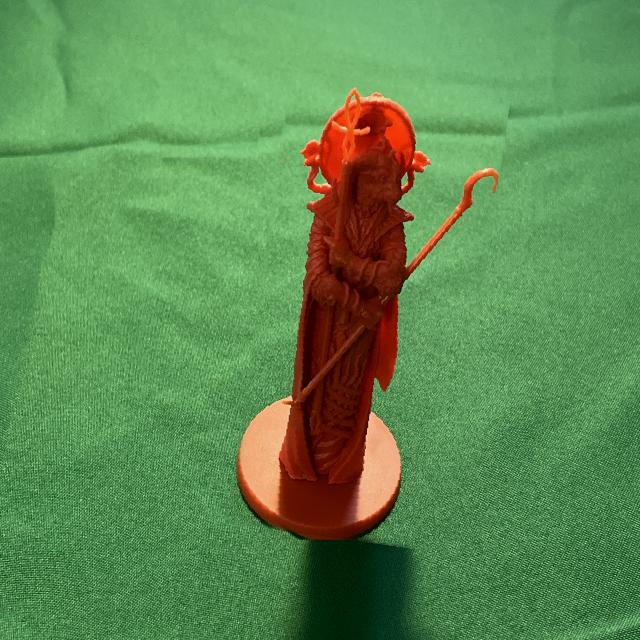amon: (243, 79, 495, 546)
